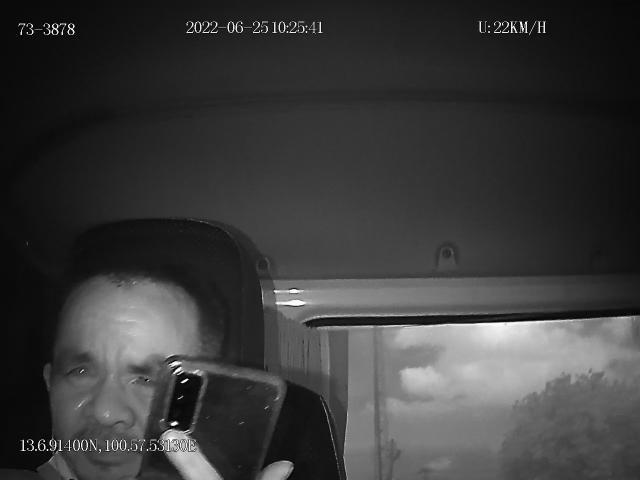PhoneUse: (138, 354, 286, 480)
SafeDriving: (56, 352, 102, 388), (122, 362, 162, 392)
